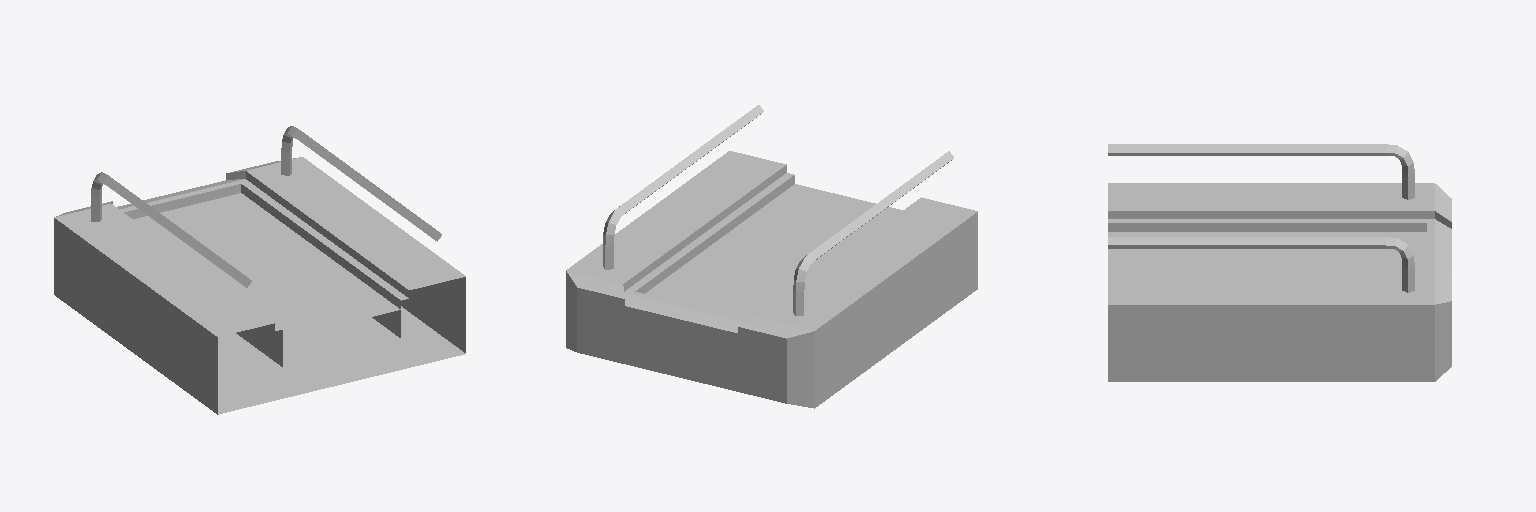
Rendered from EndPiece.obj.
3 renders of one model, left to right at view 1: azimuth 30°, elevation 25°; view 2: azimuth 150°, elevation 25°; view 3: azimuth 270°, elevation 25°, orthographic.
Parts seen in each view (by area): view 1: EndPiece_geo; view 2: EndPiece_geo; view 3: EndPiece_geo.
Part boxes in pixels (left/top/right/bottom): EndPiece_geo: left=54, top=126, right=465, bottom=414; EndPiece_geo: left=566, top=105, right=977, bottom=408; EndPiece_geo: left=1108, top=144, right=1451, bottom=381.
Size of the model in its own units: 171 by 85.93 by 205.